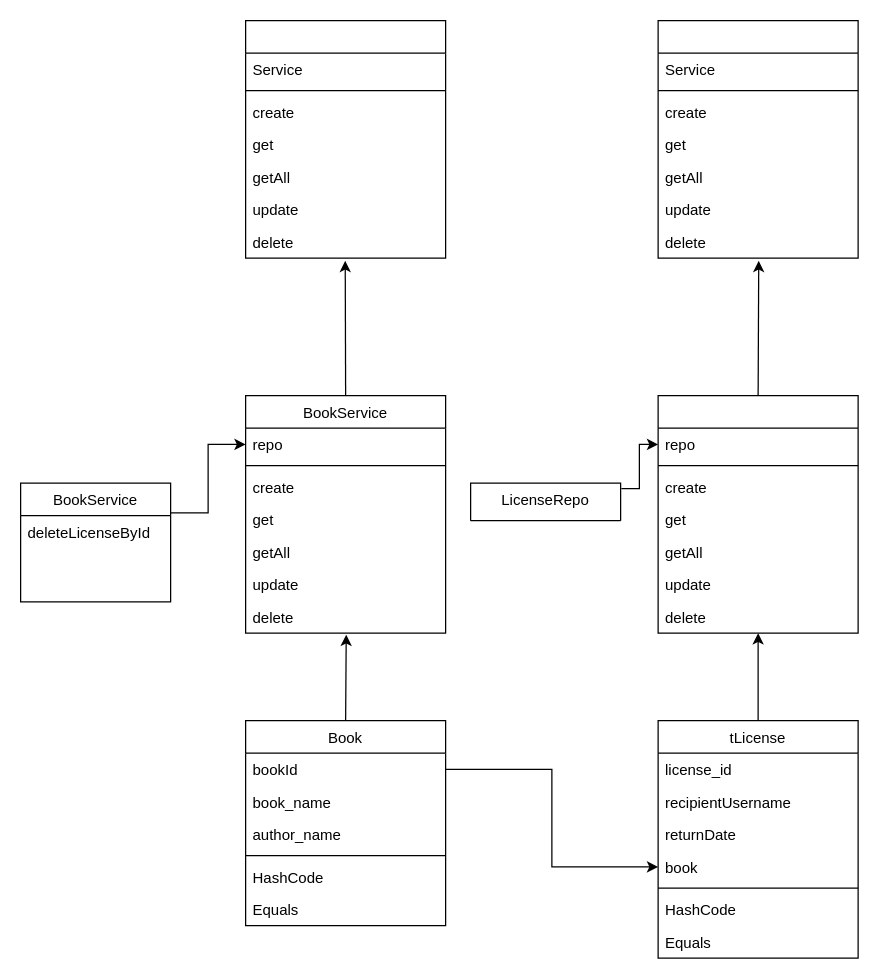
Some shapes in this 879 by 979 pixel diagram are drawn without their labels. The shapes that lost their labels are listed below. From the top down, each one's box as (x1, y1, x2, y2) in pixels, then its label:
(244, 19, 446, 258): BookController
(657, 19, 858, 258): LicenseController
(657, 394, 858, 633): LicenseService
